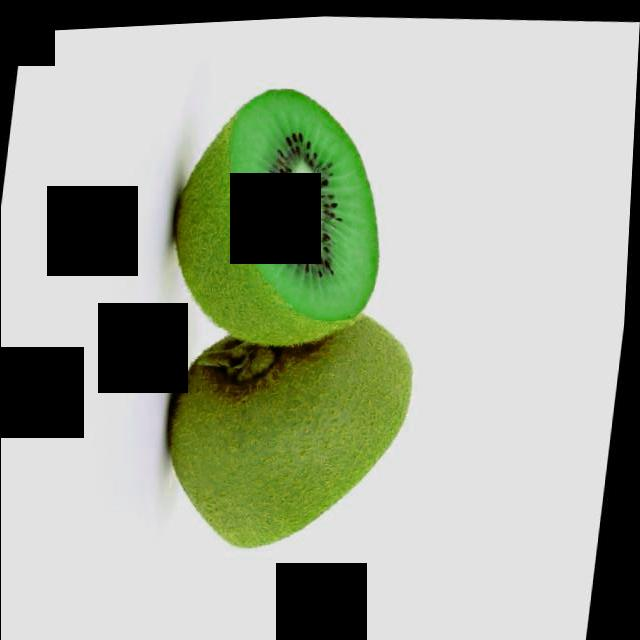kiwi: (143, 300, 451, 572)
